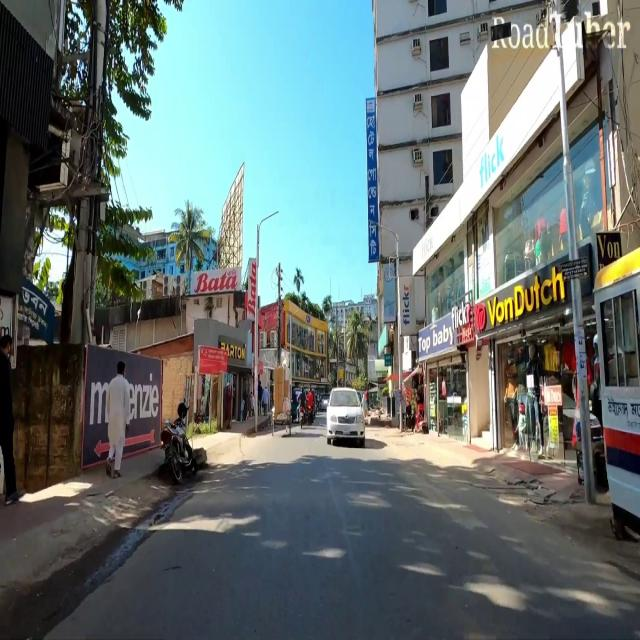white: (324, 381, 370, 444)
